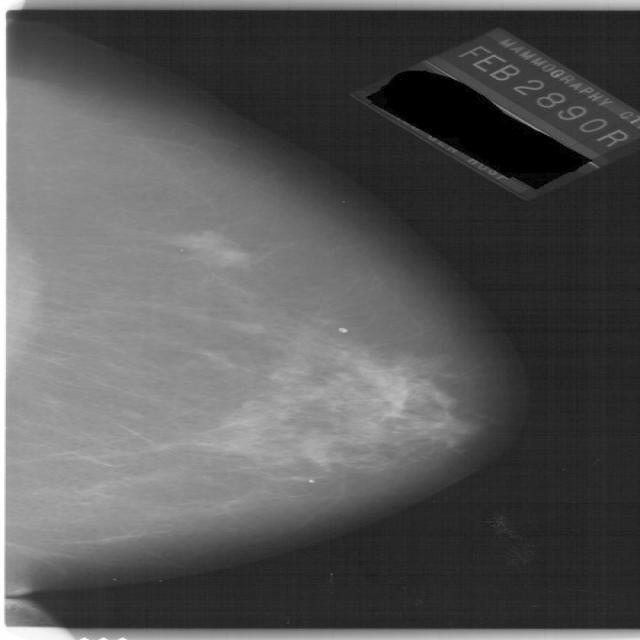tumour: (164, 233, 249, 267)
